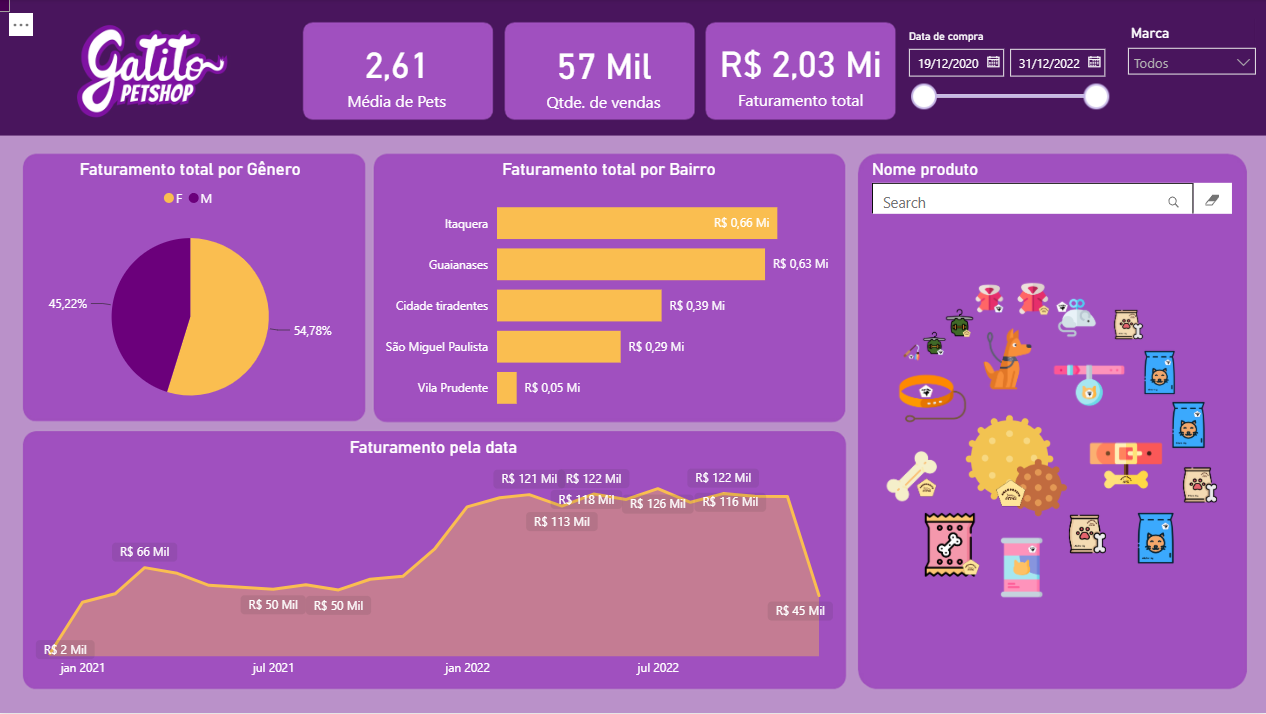

This screenshot's page, from the dashboard's own definition file:
{"tool":"powerbi","page":{"name":"Página 1","canvas":[1280,720],"ordinal":0},"visuals":[{"type":"card","fields":{"Values":["Avg(Clientes.Pets)"]},"box":[311.4,25.6,182.6,98.8],"z":0},{"type":"card","fields":{"Values":["Sum(Vendas.Quantidade)"]},"box":[530.2,29.1,162.3,91.7],"z":1000},{"type":"card","fields":{"Values":["Vendas.Faturamento total"]},"box":[704.9,26.6,211,94],"z":2000},{"type":"pieChart","fields":{"Category":["Clientes.Gênero"],"Y":["Vendas.Faturamento total"]},"box":[23.5,161,343.2,270.3],"z":3000},{"type":"clusteredBarChart","fields":{"Category":["Clientes.Bairro"],"Y":["Vendas.Faturamento total"]},"box":[377.5,161.5,477.4,269.5],"z":4000},{"type":"areaChart","title":"Faturamento pela data","fields":{"Category":["Vendas.Data de compra.Variation.Hierarquia de datas.Ano","Vendas.Data de compra.Variation.Hierarquia de datas.Trimestre","Vendas.Data de compra.Variation.Hierarquia de datas.Mês","Vendas.Data de compra.Variation.Hierarquia de datas.Dia"],"Y":["Vendas.Faturamento total"]},"box":[25.6,441.4,829.3,250.9],"z":5000},{"type":"ImageGrid_FC5183B9_926C_45E0_B5F7_0CE9EAF1DA9B","fields":{"ImageURL":["Produtos.Url img"]},"box":[870,196.3,387.9,496],"z":6000},{"type":"textFilter25A4896A83E0487089E2B90C9AE57C8A","fields":{"field":["Produtos.Nome produto"]},"box":[877,161.5,371.7,60.4],"z":7000},{"type":"slicer","fields":{"Values":["Produtos.Marca"]},"box":[1129.6,21.2,149.3,89.3],"z":8000},{"type":"slicer","fields":{"Values":["Vendas.Data de compra"]},"box":[906.2,25.9,223.3,95.2],"z":9000},{"type":"shape","box":[0,0,13,13],"z":9001}]}

Visuals, with their boxes on the page's 1280x720 design canvas (x1, y1, x2, y2). These are canvas units, not pixel positions in the 1266x714 screenshot, which may show the page scaled, cropped or inside an application window:
card - Avg(Clientes.Pets): (left=311, top=26, right=494, bottom=124)
card - Sum(Vendas.Quantidade): (left=530, top=29, right=692, bottom=121)
card - Vendas.Faturamento total: (left=705, top=27, right=916, bottom=121)
pieChart - Clientes.Gênero x Vendas.Faturamento total: (left=24, top=161, right=367, bottom=431)
clusteredBarChart - Clientes.Bairro x Vendas.Faturamento total: (left=378, top=162, right=855, bottom=431)
"Faturamento pela data" areaChart: (left=26, top=441, right=855, bottom=692)
ImageGrid_FC5183B9_926C_45E0_B5F7_0CE9EAF1DA9B - Produtos.Url img: (left=870, top=196, right=1258, bottom=692)
textFilter25A4896A83E0487089E2B90C9AE57C8A - Produtos.Nome produto: (left=877, top=162, right=1249, bottom=222)
slicer - Produtos.Marca: (left=1130, top=21, right=1279, bottom=110)
slicer - Vendas.Data de compra: (left=906, top=26, right=1130, bottom=121)
shape: (left=0, top=0, right=13, bottom=13)
